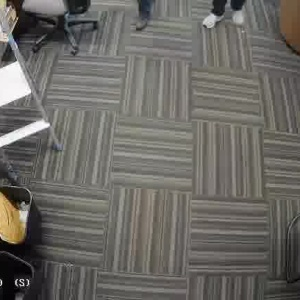person: (198, 0, 249, 33)
